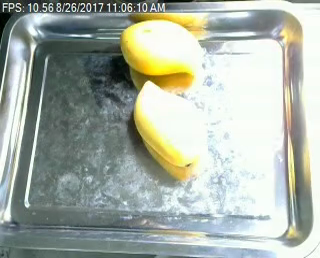Mango: (133, 80, 215, 172), (115, 14, 207, 78)
